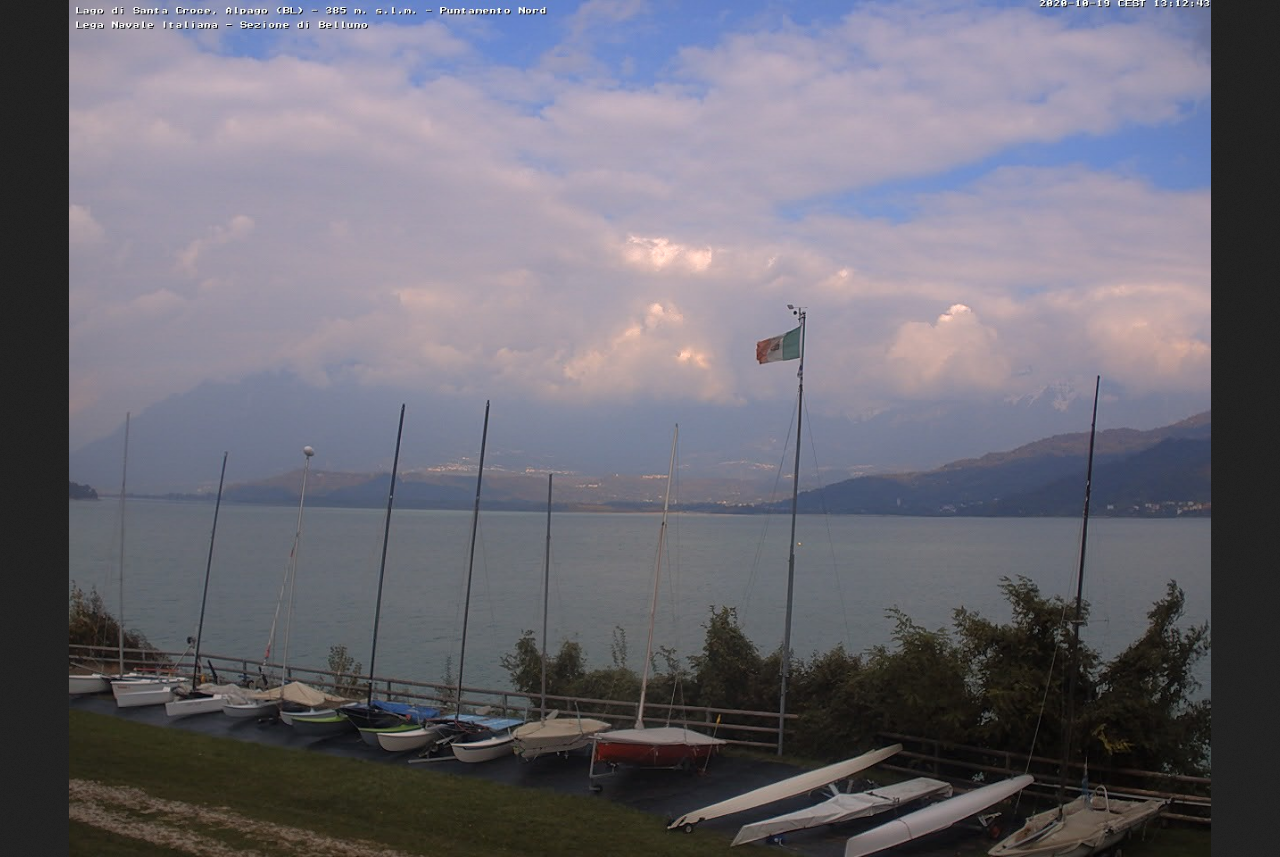yes: (749, 319, 810, 367)
